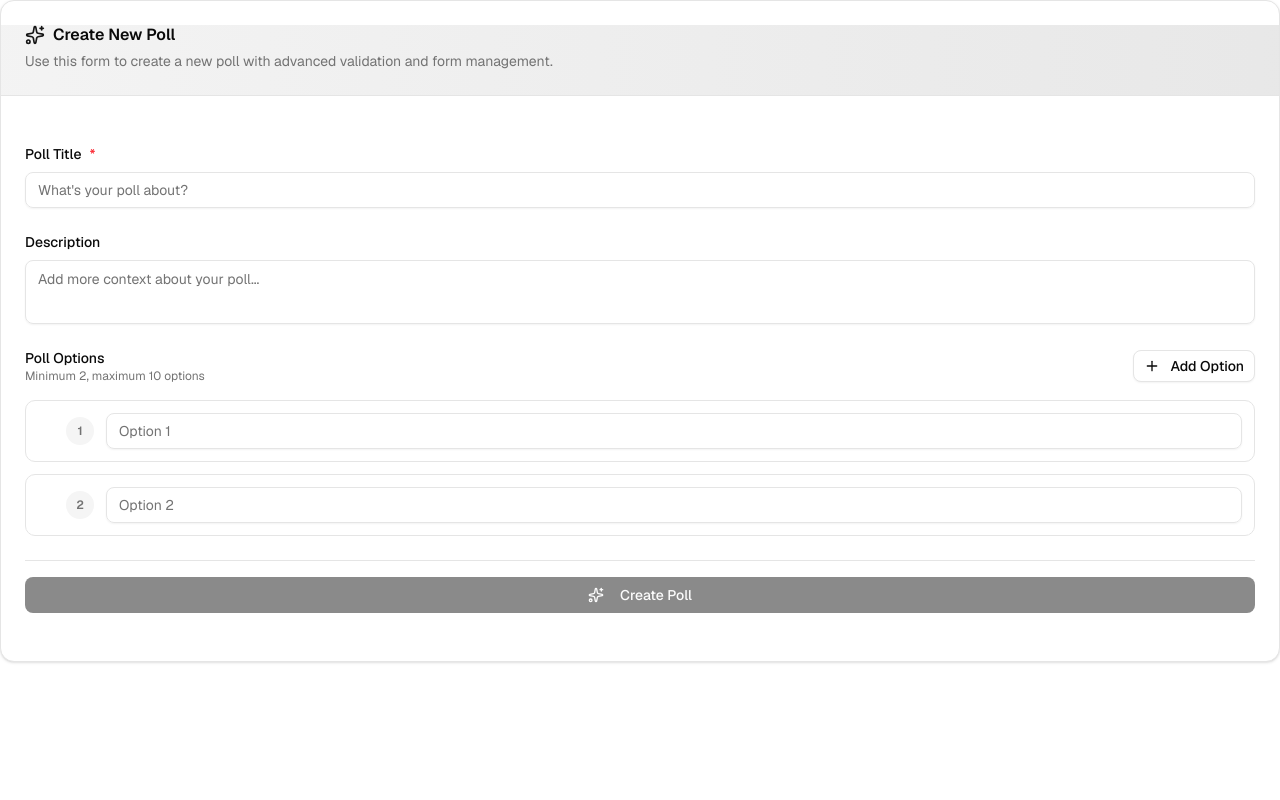
PollForm › validates title length
This screenshot has width=1280, height=800.
Type "ab" into the field labelled "Poll Title *" at (640, 190), box [25,172,1255,208]
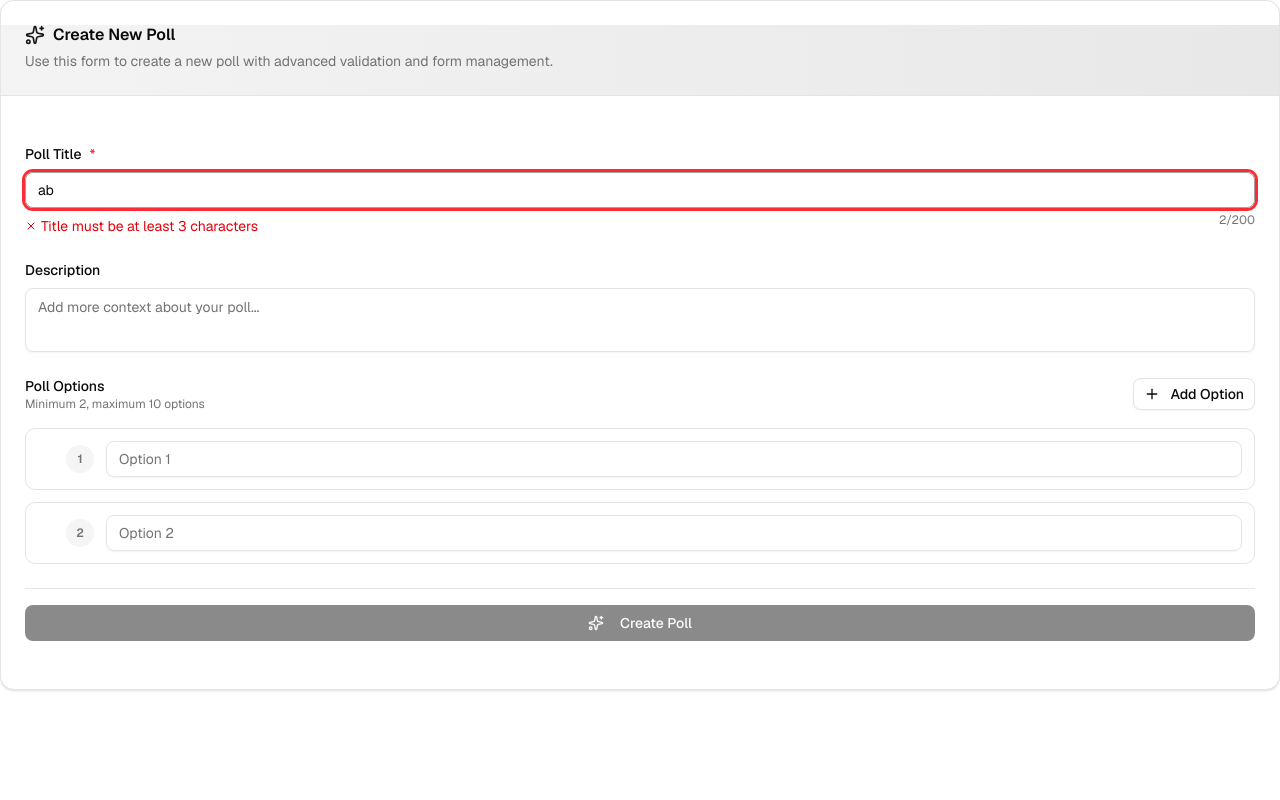
Now the text "Title must be at least 3 characters" is shown, box [25,217,258,235]
